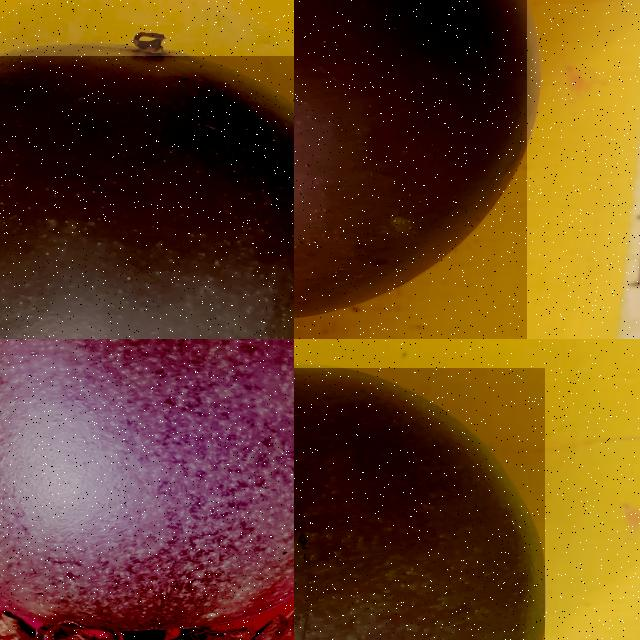Estado-4: (294, 373, 544, 640)
Estado-5: (294, 0, 527, 314)
Estado-6: (0, 56, 294, 339)
